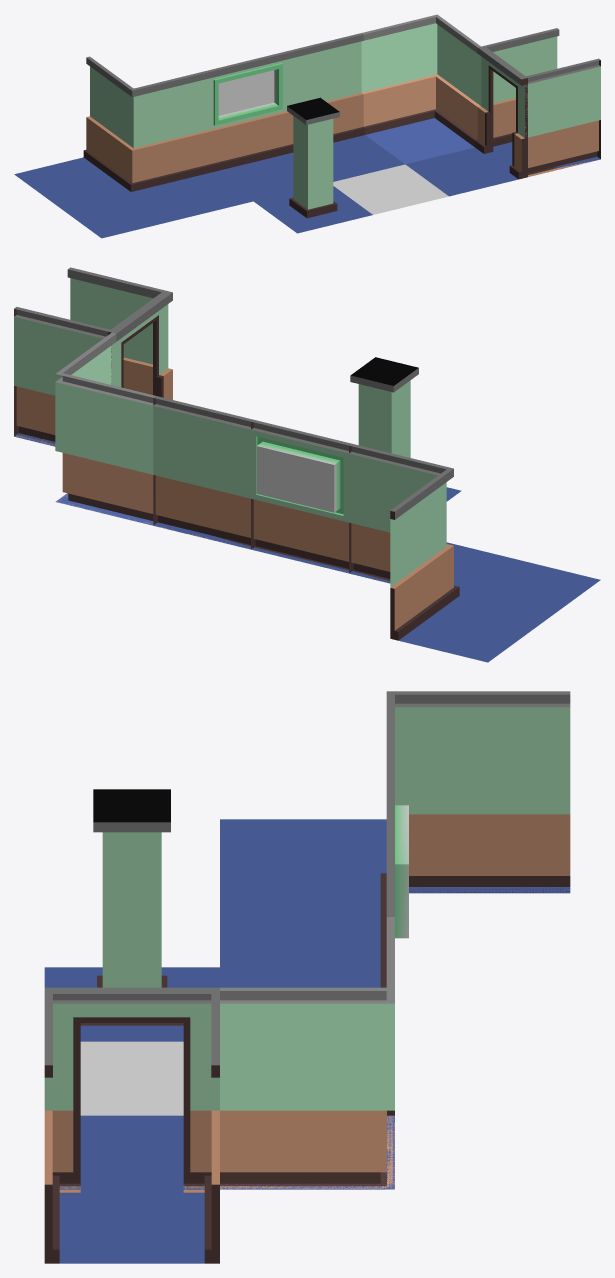
Rendered from Office placceholders.fbx.
3 renders of one model, top to bottom at view 1: azimuth 30°, elevation 25°; view 2: azimuth 150°, elevation 25°; view 3: azimuth 270°, elevation 25°, orthographic. The views are drawn at different scales.
Parts seen in each view (by area): view 1: Outward corner, Inward corner section, Hall section, Window section, Wall section, Pillar section, Door section, Floor section; view 2: Outward corner, Inward corner section, Wall section, Window section, Hall section, Pillar section, Door section; view 3: Outward corner, Inward corner section, Door section, Pillar section, Hall section, Floor section, Window section.
Part boxes in pixels (box(x1,y1,x2,y2)): Outward corner: box(14, 56, 252, 238); Inward corner section: box(361, 14, 481, 164); Hall section: box(481, 28, 600, 176); Window section: box(209, 51, 293, 201); Wall section: box(285, 33, 404, 181); Pillar section: box(254, 97, 372, 233); Door section: box(405, 46, 527, 196); Floor section: box(333, 164, 448, 214); Outward corner: box(349, 443, 600, 662); Inward corner section: box(55, 332, 157, 525); Wall section: box(153, 396, 255, 549); Window section: box(251, 420, 353, 573); Hall section: box(14, 267, 166, 446); Pillar section: box(350, 357, 461, 501); Door section: box(108, 290, 172, 399); Outward corner: box(220, 691, 570, 967); Inward corner section: box(220, 917, 394, 1189); Door section: box(44, 987, 219, 1192); Pillar section: box(44, 789, 219, 1041); Hall section: box(44, 991, 219, 1263); Floor section: box(80, 1041, 183, 1115); Window section: box(220, 768, 408, 987).
Size of the model in its own units: 12 by 2.5 by 6.
